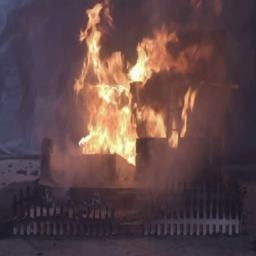fire: (68, 2, 194, 160)
